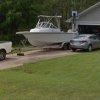Boat: (17, 10, 78, 43)
